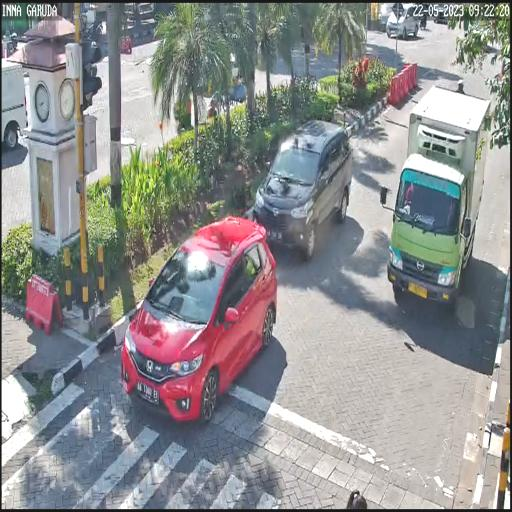mobil: (108, 214, 288, 416), (386, 77, 484, 321), (253, 116, 355, 265)
